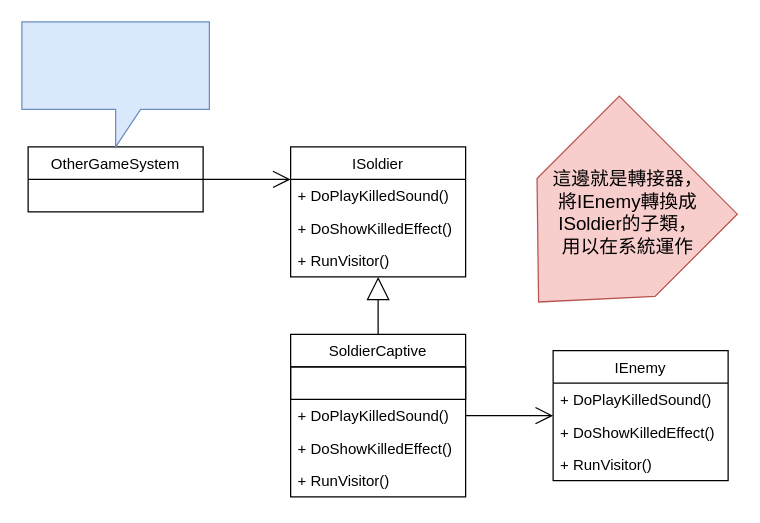
This 760x523 diagram has some shape labels left out. Each missing label, with the centre of its shape:
- m_Captive: [377,382]
這邊指的是案例中 會跟"士兵"有關聯的"系統": [115,84]
